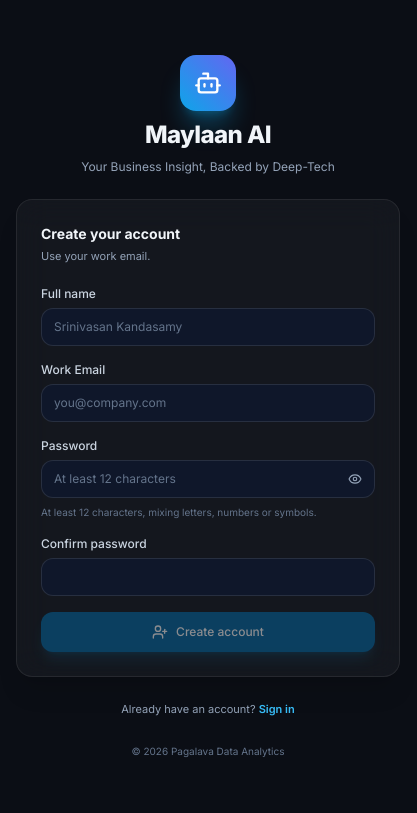
/signup › translates provider failures into something a visitor can act on
Type "Priya Raman" into the field labelled "Full name" at [208, 327], box [41, 308, 375, 346]
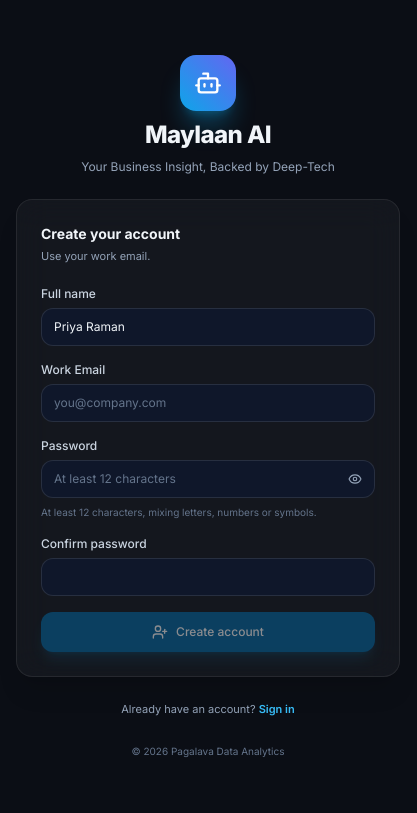
Type "priya@example.com" into the field labelled "Work Email" at [208, 403], box [41, 384, 375, 422]
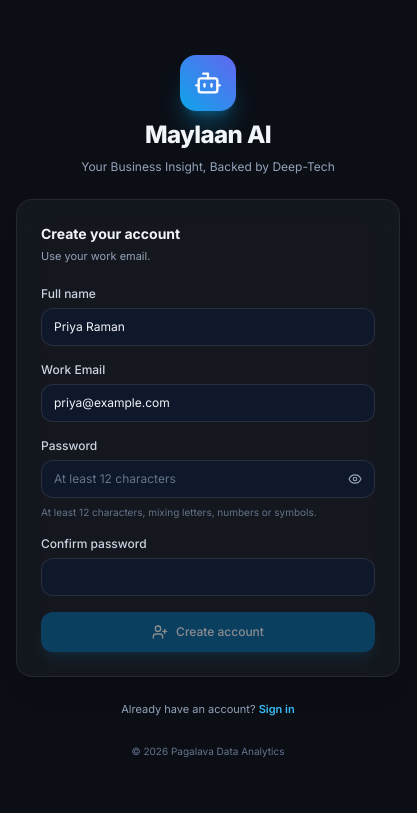
Type "Vault-Harbour-71!" into the password field labelled "Password" at [208, 479], box [41, 460, 375, 498]
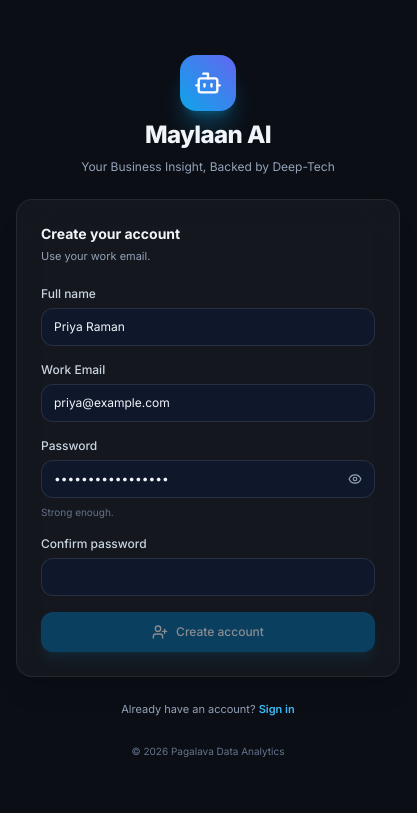
Type "Vault-Harbour-71!" into the password field labelled "Confirm password" at [208, 577], box [41, 558, 375, 596]
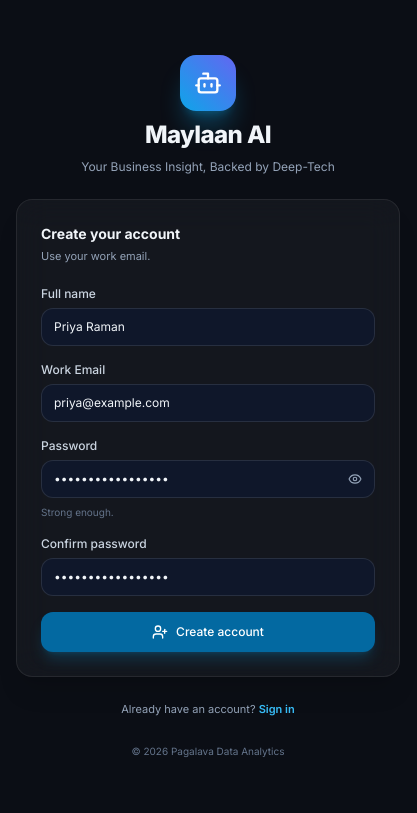
Click the button "Create account" at [208, 632], box [41, 612, 375, 652]
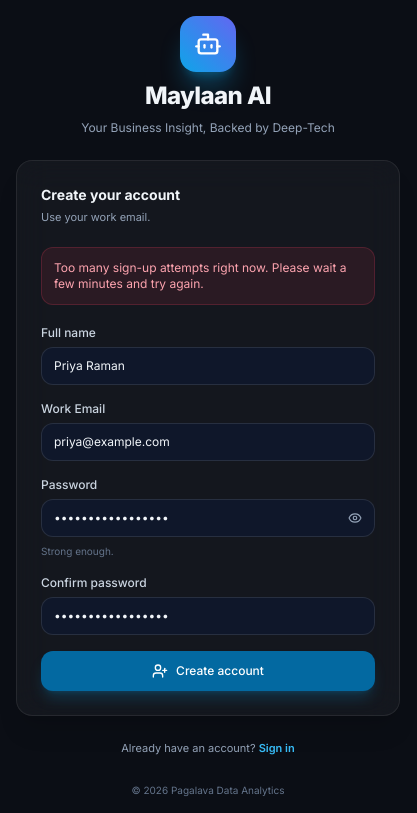
Expected: the message does not show "rate limit exceeded", [41, 247, 375, 305]
Expected: the message shows "Too many sign-up attempts", [54, 260, 346, 291]
